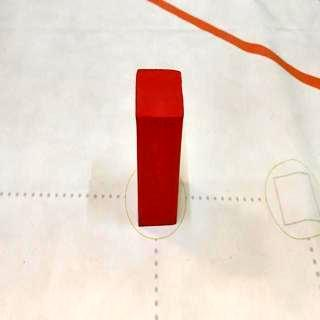redbox: (136, 65, 184, 226)
